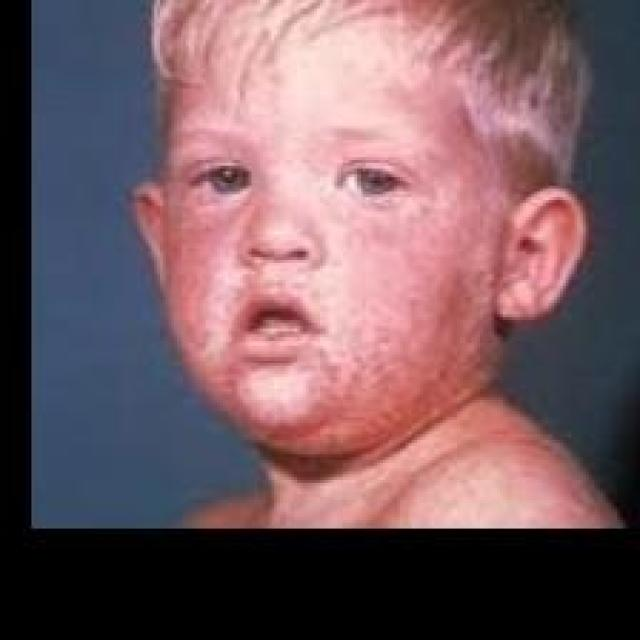others: (166, 95, 505, 444)
